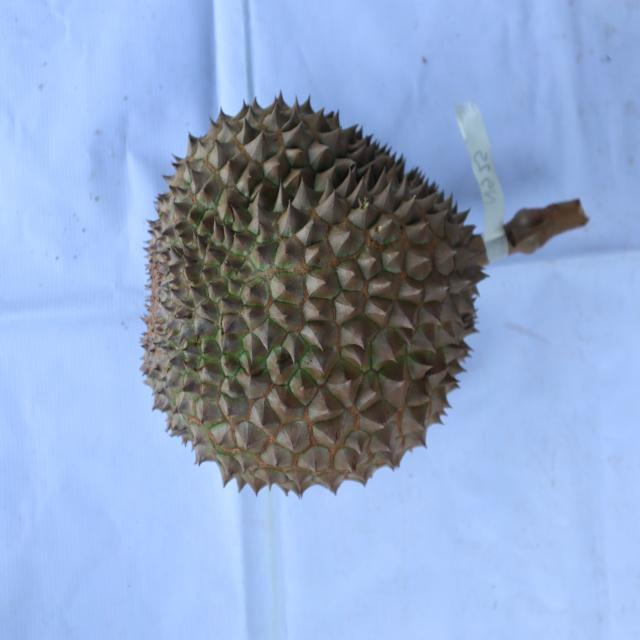mature: (139, 90, 489, 500)
